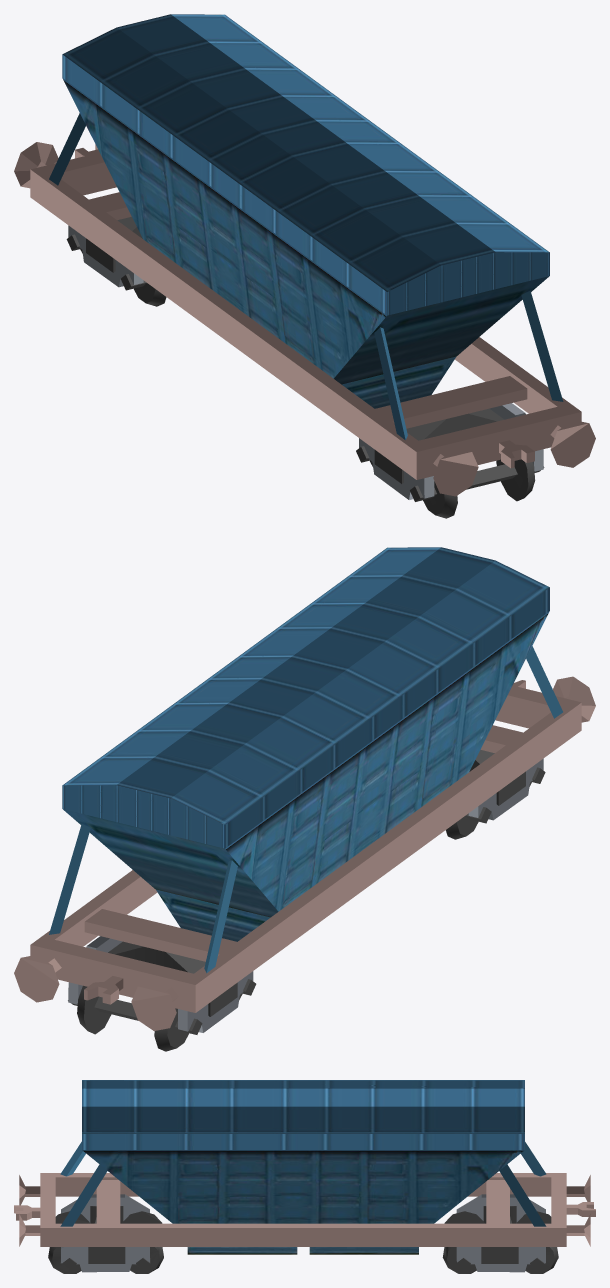
File: hoppercarblue.dae
3 renders of one model, top to bottom at view 1: azimuth 30°, elevation 25°; view 2: azimuth 150°, elevation 25°; view 3: azimuth 270°, elevation 25°, orthographic. The views are drawn at different scales.
Parts seen in each view (by area): view 1: 9.0.242.0_Pts_Material_Surf, 9.0.242.0_Pts_Material__4__Surf, 9.0.242.0_Pts_Material__2__Surf, 9.0.242.0_Pts_Material__3__Surf; view 2: 9.0.242.0_Pts_Material_Surf, 9.0.242.0_Pts_Material__4__Surf, 9.0.242.0_Pts_Material__2__Surf, 9.0.242.0_Pts_Material__3__Surf; view 3: 9.0.242.0_Pts_Material_Surf, 9.0.242.0_Pts_Material__4__Surf, 9.0.242.0_Pts_Material__2__Surf, 9.0.242.0_Pts_Material__3__Surf.
Boxes of the visible parts, bbox=[...] form: 9.0.242.0_Pts_Material_Surf: bbox=[49, 14, 563, 439]; 9.0.242.0_Pts_Material__4__Surf: bbox=[14, 142, 595, 496]; 9.0.242.0_Pts_Material__2__Surf: bbox=[66, 216, 544, 518]; 9.0.242.0_Pts_Material__3__Surf: bbox=[68, 225, 543, 499]; 9.0.242.0_Pts_Material_Surf: bbox=[49, 547, 562, 973]; 9.0.242.0_Pts_Material__4__Surf: bbox=[14, 676, 595, 1030]; 9.0.242.0_Pts_Material__2__Surf: bbox=[68, 749, 545, 1051]; 9.0.242.0_Pts_Material__3__Surf: bbox=[68, 758, 543, 1032]; 9.0.242.0_Pts_Material_Surf: bbox=[60, 1080, 546, 1254]; 9.0.242.0_Pts_Material__4__Surf: bbox=[14, 1173, 595, 1246]; 9.0.242.0_Pts_Material__2__Surf: bbox=[48, 1206, 558, 1273]; 9.0.242.0_Pts_Material__3__Surf: bbox=[60, 1194, 545, 1272].
Bounding box in the file's own units: 3.2 × 4.47 × 14.32.
Materials: 4 (1 with a texture image).
